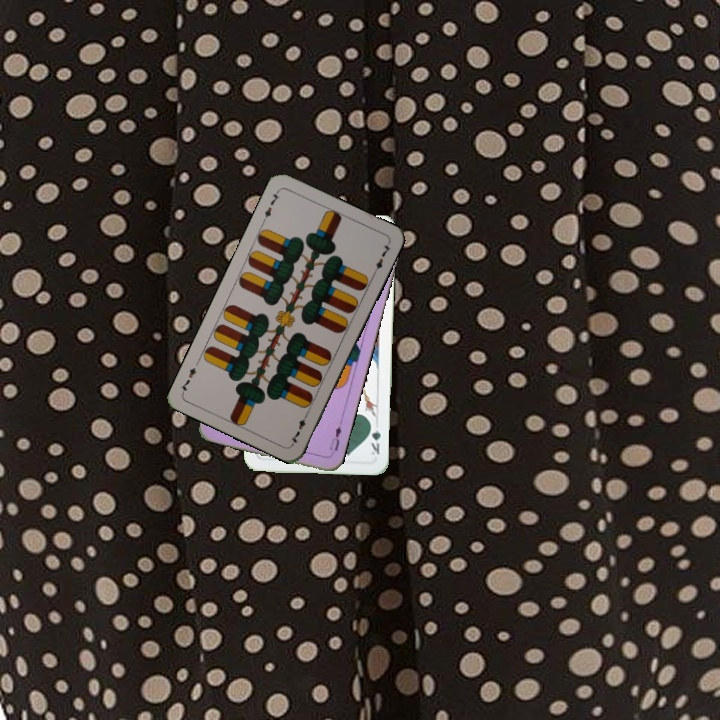E7: (286, 409, 311, 447), (259, 186, 282, 225)
EU: (326, 418, 344, 458)
GK: (367, 418, 383, 458)
